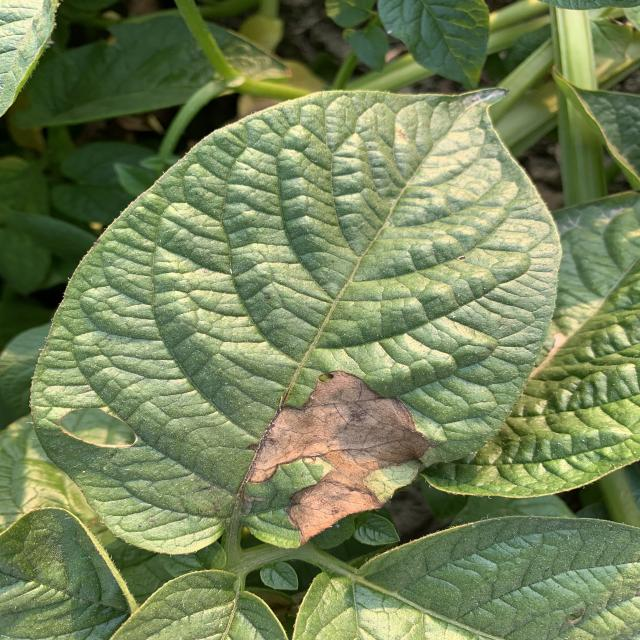lateblight: (247, 371, 432, 544)
